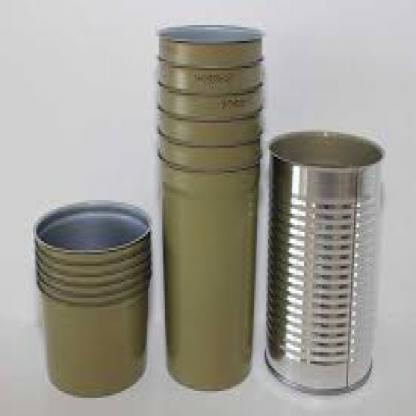METAL: (154, 23, 264, 388), (263, 132, 384, 391), (34, 200, 152, 398)
